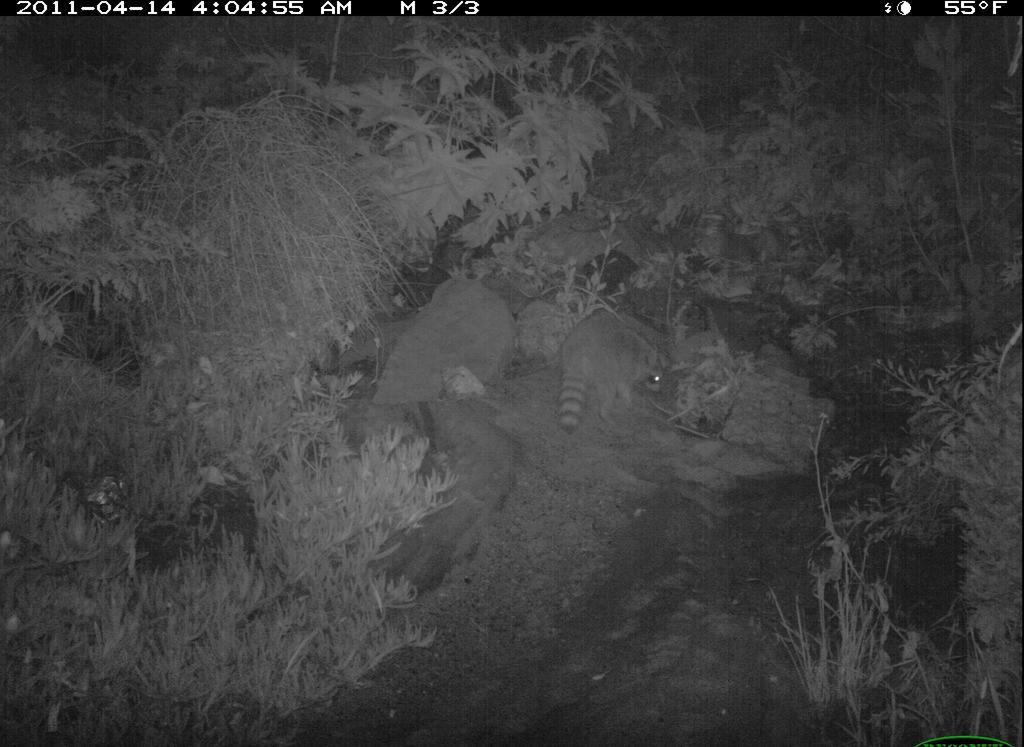raccoon: (550, 304, 697, 449)
